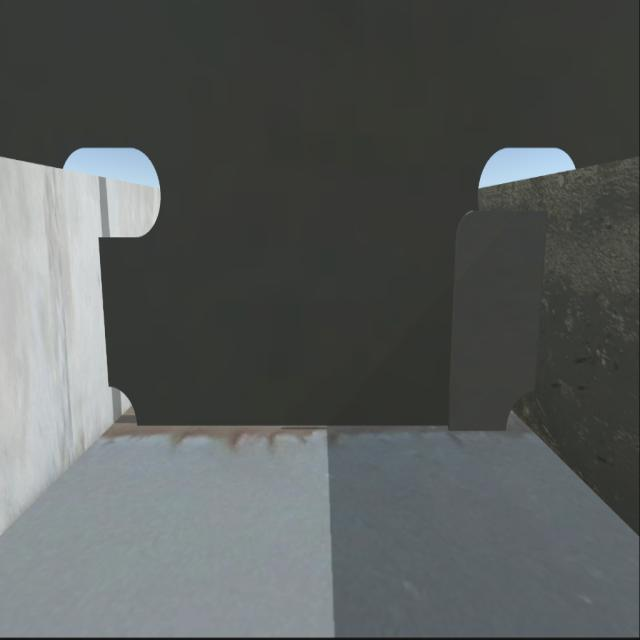fillet_hole: (106, 380, 145, 429), (502, 394, 535, 436)
fillet_yong_jeop_jang: (132, 420, 494, 430)
longi_yong_jeop_jang: (526, 217, 548, 396), (95, 240, 108, 383)
plate_CP05: (453, 208, 544, 432)
